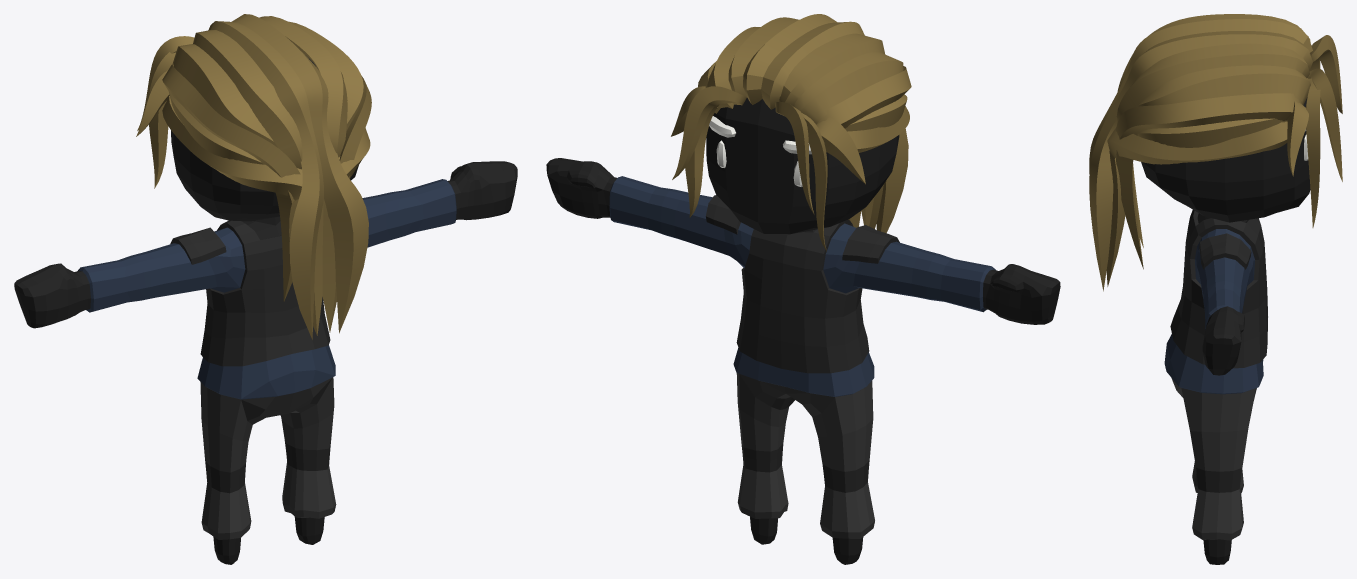
Rendered from Player.fbx.
3 renders of one model, left to right at view 1: azimuth 30°, elevation 25°; view 2: azimuth 150°, elevation 25°; view 3: azimuth 270°, elevation 25°, orthographic. The views are drawn at different scales.
Visible parts, largest first — view 1: Body, Body.002, Body.003, Body.001, Body.004; view 2: Body, Body.001, Body.003, Body.002, Body.004, Body.005; view 3: Body, Body.001, Body.003, Body.004, Body.002.
Part boxes in pixels (x1,y1,x2,y2): Body: [136, 14, 371, 339]; Body.002: [77, 179, 456, 399]; Body.003: [170, 220, 330, 493]; Body.001: [14, 55, 517, 564]; Body.004: [200, 377, 336, 539]; Body: [671, 14, 911, 251]; Body.001: [546, 97, 1060, 564]; Body.003: [705, 195, 899, 492]; Body.002: [609, 176, 995, 396]; Body.004: [736, 373, 874, 538]; Body.005: [709, 116, 811, 186]; Body: [1089, 14, 1342, 291]; Body.001: [1141, 97, 1310, 564]; Body.003: [1170, 210, 1267, 492]; Body.004: [1171, 378, 1256, 540]; Body.002: [1164, 229, 1263, 394].
Bounding box in the file's own units: 324 × 142 × 320.
